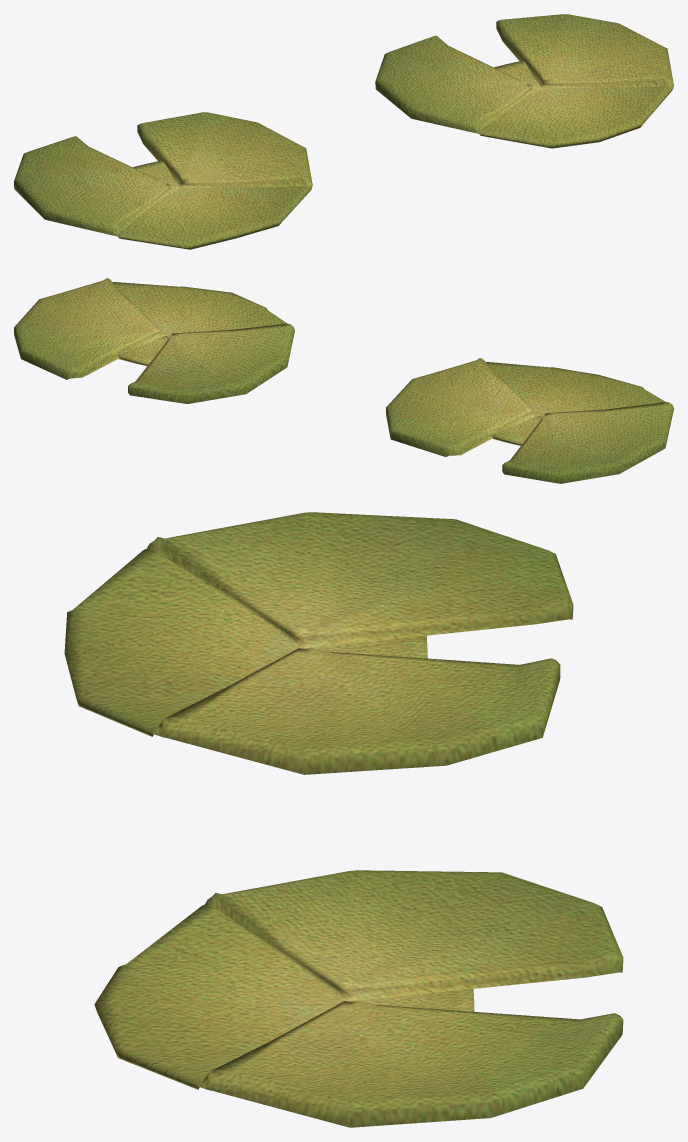
Rendered from water_lily.fbx.
The picture shows the model from 3 angles, top to bottom: view 1: azimuth 30°, elevation 25°; view 2: azimuth 150°, elevation 25°; view 3: azimuth 270°, elevation 25°; orthographic projection. The views are drawn at different scales.
Visible parts, largest first — view 1: water_lily2, water_lily1; view 2: water_lily2, water_lily1; view 3: water_lily2, water_lily1.
Part boxes in pixels (<box>): water_lily2: <box>14,112,312,249</box>; water_lily1: <box>375,14,673,148</box>; water_lily2: <box>386,358,673,483</box>; water_lily1: <box>14,278,294,403</box>; water_lily2: <box>64,512,573,774</box>; water_lily1: <box>94,870,623,1127</box>.
Size of the model in its own units: 8.78 by 0.245 by 3.46.
